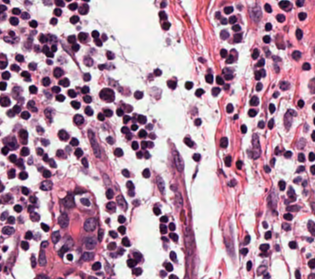nucleus: (88, 130, 100, 156), (58, 239, 72, 256), (99, 88, 114, 101), (62, 193, 74, 207), (84, 218, 96, 231), (58, 213, 68, 227), (175, 154, 183, 171), (38, 249, 46, 265), (117, 195, 126, 209), (85, 237, 96, 248), (40, 180, 51, 190), (53, 67, 63, 77), (73, 114, 83, 124), (58, 130, 68, 140), (183, 137, 194, 146), (288, 187, 295, 201), (279, 81, 289, 90), (51, 231, 59, 242), (82, 252, 93, 260), (157, 177, 163, 191), (78, 32, 87, 41), (106, 202, 115, 211), (30, 212, 39, 221), (59, 78, 69, 86), (292, 50, 300, 59), (167, 80, 176, 88), (250, 96, 258, 105), (74, 148, 82, 157), (122, 237, 130, 246), (133, 252, 141, 261), (127, 259, 136, 267), (132, 267, 141, 275), (252, 49, 259, 59), (205, 73, 212, 83), (220, 137, 227, 147), (224, 156, 231, 166), (278, 180, 285, 190), (97, 229, 103, 240), (220, 30, 228, 38), (39, 34, 47, 42), (67, 35, 75, 43), (84, 57, 92, 65), (28, 62, 36, 70), (42, 77, 50, 85), (29, 85, 37, 93), (212, 87, 220, 95), (195, 88, 203, 96), (67, 89, 75, 97), (134, 91, 142, 99), (83, 94, 91, 102), (71, 101, 79, 109), (138, 115, 146, 123), (138, 129, 146, 137), (114, 148, 122, 156), (56, 149, 64, 157), (48, 159, 56, 167), (42, 169, 50, 177), (169, 233, 177, 241), (92, 262, 100, 270), (164, 263, 172, 271), (234, 33, 241, 42), (103, 109, 112, 116), (142, 168, 149, 177), (106, 189, 113, 198), (259, 244, 268, 251), (296, 29, 302, 39), (45, 108, 50, 120), (308, 221, 313, 233), (30, 255, 35, 267), (308, 258, 314, 268), (94, 38, 101, 46), (72, 43, 79, 51), (106, 51, 113, 59), (226, 55, 233, 63), (216, 76, 223, 84), (185, 81, 192, 89), (81, 86, 89, 93), (56, 94, 64, 101), (85, 107, 92, 115), (248, 109, 256, 116), (123, 115, 130, 123), (40, 138, 48, 145), (70, 138, 78, 145), (193, 153, 200, 161), (126, 181, 133, 189), (81, 198, 89, 205), (284, 213, 292, 220), (41, 223, 48, 231), (257, 266, 265, 273), (269, 103, 275, 112), (74, 188, 84, 193), (92, 30, 99, 37), (263, 35, 270, 42), (45, 50, 52, 57), (257, 59, 264, 66), (83, 73, 90, 80), (116, 108, 123, 115), (97, 113, 104, 120), (194, 118, 201, 125), (36, 126, 43, 133), (121, 126, 128, 133), (106, 136, 113, 143), (36, 148, 43, 155), (122, 169, 129, 176), (29, 196, 36, 203), (153, 207, 160, 214), (282, 223, 289, 230), (109, 230, 116, 237), (264, 231, 271, 238), (289, 241, 296, 248), (108, 242, 115, 249), (47, 35, 55, 41), (220, 49, 226, 57), (302, 63, 310, 69), (256, 82, 262, 90), (52, 86, 60, 92), (226, 104, 232, 112), (132, 141, 138, 149), (298, 153, 304, 161), (81, 158, 87, 166), (160, 225, 166, 233), (268, 119, 273, 128), (170, 251, 175, 260), (246, 261, 251, 270), (287, 206, 298, 210), (42, 45, 48, 52), (154, 69, 161, 75), (225, 73, 232, 79), (297, 100, 303, 107), (240, 125, 246, 132), (136, 151, 142, 158), (143, 151, 149, 158), (284, 151, 291, 157), (297, 166, 304, 172), (118, 216, 125, 222), (160, 216, 167, 222), (169, 223, 175, 230), (118, 226, 124, 233), (41, 241, 47, 248), (240, 248, 247, 254), (255, 71, 260, 79), (309, 152, 314, 160), (236, 160, 241, 168), (244, 235, 249, 243), (295, 270, 300, 278), (46, 58, 52, 64), (258, 121, 264, 127), (131, 124, 137, 130), (310, 165, 314, 174), (51, 44, 56, 51), (260, 69, 265, 76), (141, 141, 146, 148), (293, 177, 300, 182), (102, 34, 107, 40), (99, 64, 105, 69), (311, 130, 314, 140), (126, 133, 131, 139), (149, 133, 155, 138), (147, 142, 153, 147), (264, 166, 269, 172), (128, 190, 133, 196), (67, 254, 72, 260), (43, 154, 47, 161), (270, 158, 274, 165), (273, 92, 278, 97), (230, 180, 235, 185), (262, 222, 267, 227), (118, 249, 123, 254), (160, 271, 165, 276), (35, 45, 39, 51), (169, 275, 177, 278), (162, 237, 167, 241), (37, 275, 47, 277), (199, 58, 204, 61), (264, 274, 269, 277), (225, 84, 228, 88), (147, 125, 151, 128)
